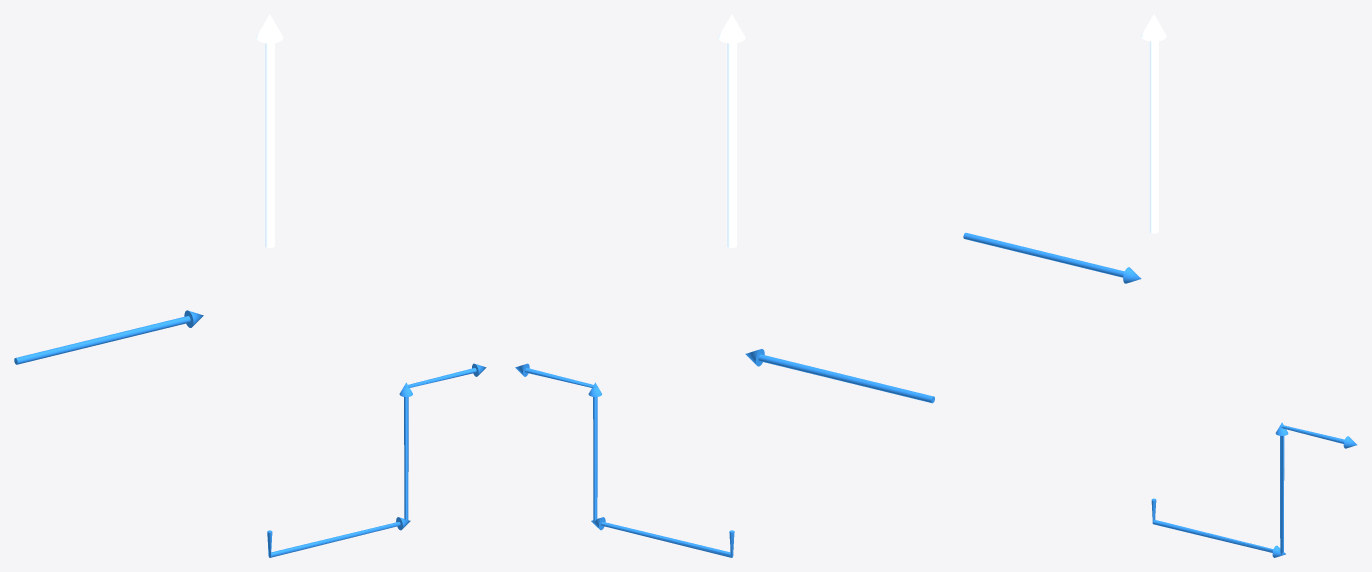
File: blowdown_tank_flow.glb
3 views of the same model, side by side, from view 1: azimuth 30°, elevation 25°; view 2: azimuth 150°, elevation 25°; view 3: azimuth 330°, elevation 25° (orthographic). The views are drawn at different scales.
Visible parts, largest first — view 1: vent, drain, blowdown_in; view 2: vent, drain, blowdown_in; view 3: vent, drain, blowdown_in.
Part boxes in pixels (left/top/right/bottom): vent: left=256, top=14, right=283, bottom=247; drain: left=267, top=363, right=486, bottom=557; blowdown_in: left=14, top=310, right=203, bottom=364; vent: left=718, top=14, right=745, bottom=247; drain: left=515, top=363, right=734, bottom=557; blowdown_in: left=745, top=349, right=934, bottom=403; vent: left=1141, top=14, right=1166, bottom=233; drain: left=1151, top=422, right=1356, bottom=557; blowdown_in: left=963, top=232, right=1141, bottom=283.
Size of the model in its own units: 2.93 by 3.45 by 0.43.
